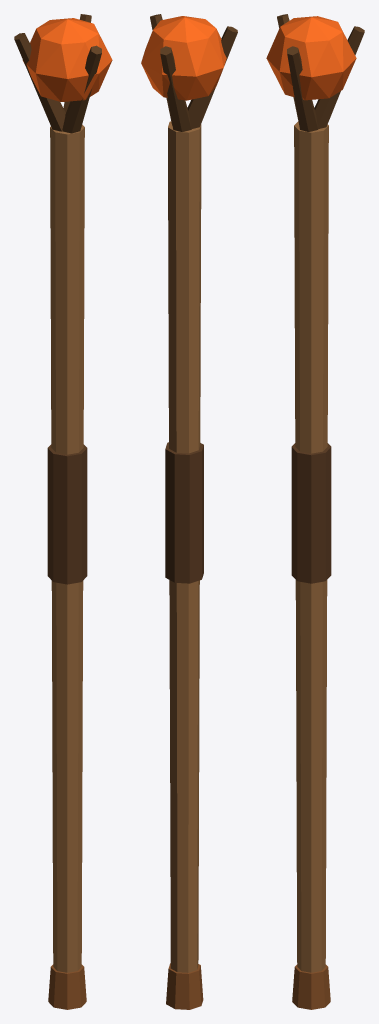
File: held_staff_fire.glb
3 views of the same model, side by side, from view 1: azimuth 90°, elevation 25°; view 2: azimuth 150°, elevation 25°; view 3: azimuth 270°, elevation 25° (orthographic).
Parts seen in each view (by area): view 1: held_staff_fire; view 2: held_staff_fire; view 3: held_staff_fire.
Boxes of the visible parts, <box> form: held_staff_fire: <box>14,14,112,1009</box>; held_staff_fire: <box>141,14,237,1009</box>; held_staff_fire: <box>266,14,364,1009</box>.
Size of the model in its own units: 0.1484 by 1.69 by 0.1524.
